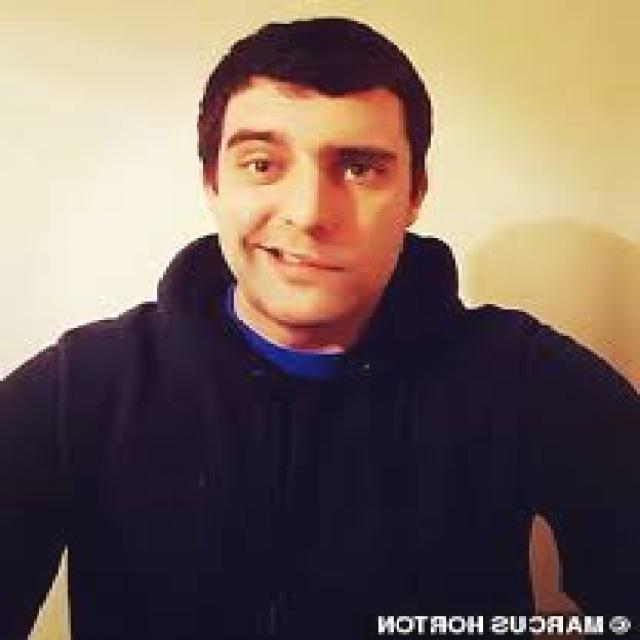stroke_face: (179, 59, 446, 334)
